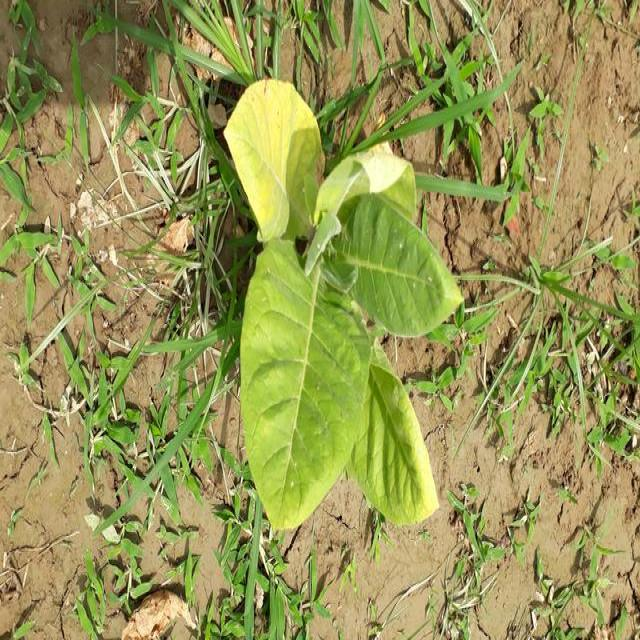crop: (222, 80, 458, 551), (228, 75, 230, 77)
